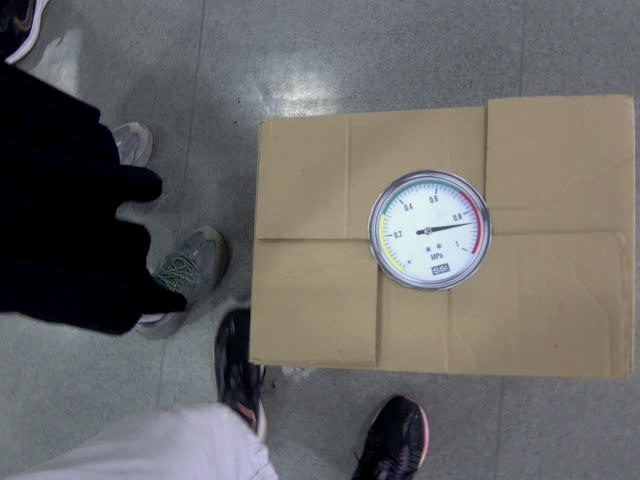Dashboard: (368, 169, 492, 293)
ssi: (428, 263, 450, 277)
